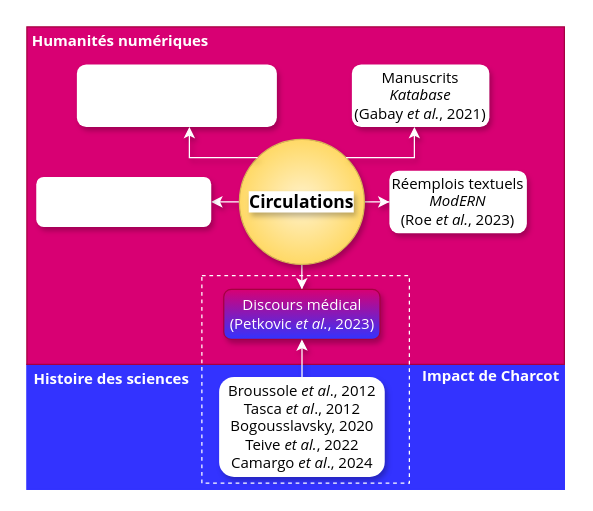
Some shapes in this 593 by 511 pixel diagram are drawn without their labels. Here are the shapes that lost their labels. From the top down, the centre of each, then its label:
the point at 177,97: Images Visual Contagions (Joyeux-Prunel et al. , 2019)
the point at 124,203: Allusions textuelles (Manjavacas et al. , 2019)
